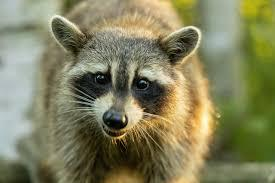raccoon: (8, 0, 247, 183)
